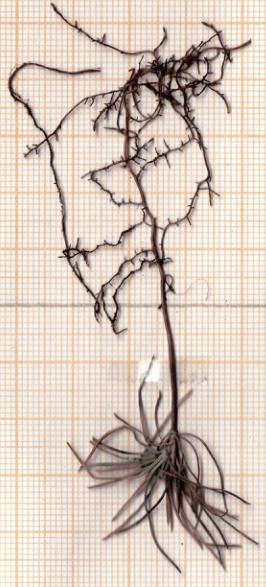flower: (65, 355, 262, 575)
root: (5, 0, 248, 336)
stem: (158, 302, 185, 432)
